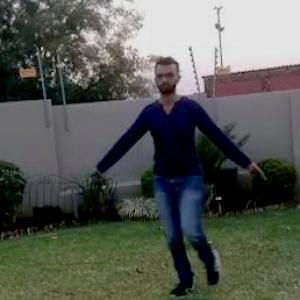land: (118, 73, 255, 262)
